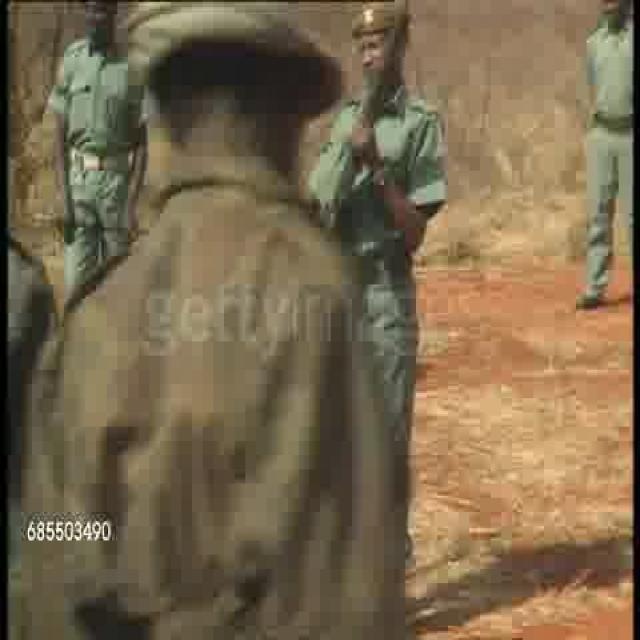Rifle: (324, 18, 409, 224)
